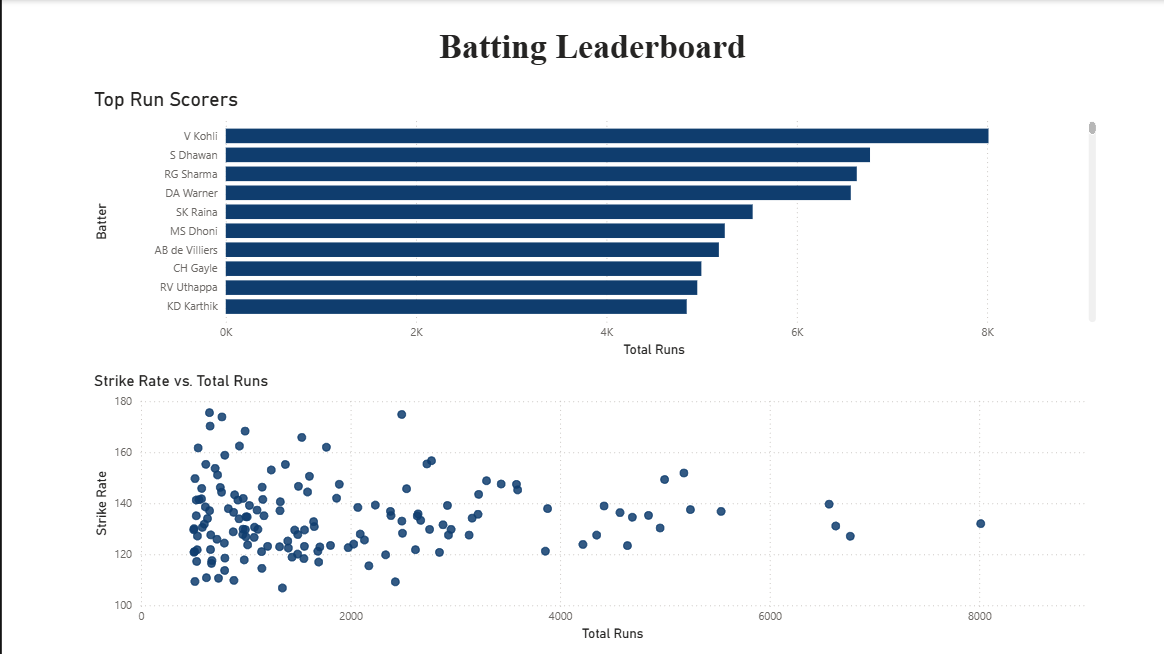

Layout of this report page (visuals, bound fields, positions):
{"tool":"powerbi","page":{"name":"Batting Leaderboard","canvas":[1280,720],"ordinal":2},"visuals":[{"type":"clusteredBarChart","title":"Top Run Scorers","fields":{"Category":["public batting_leaderboard.batter"],"Y":["Sum(public batting_leaderboard.total_runs)"]},"box":[96.1,96.1,1110.1,300.5],"z":0},{"type":"textbox","box":[474.8,24.7,354,71.4],"z":1000},{"type":"scatterChart","title":"Strike Rate vs. Total Runs","fields":{"X":["public batting_leaderboard.total_runs"],"Y":["public batting_leaderboard.strike_rate"]},"box":[96,407,1110,301],"z":2000}]}

Visuals, with their boxes in screenshot pixels (x1, y1, x2, y2), scaled from the page's 1280x720 canvas onto the 1164x654 screenshot:
"Top Run Scorers" clusteredBarChart: (x1=87, y1=87, x2=1097, y2=360)
textbox: (x1=432, y1=22, x2=754, y2=87)
"Strike Rate vs. Total Runs" scatterChart: (x1=87, y1=370, x2=1097, y2=643)
